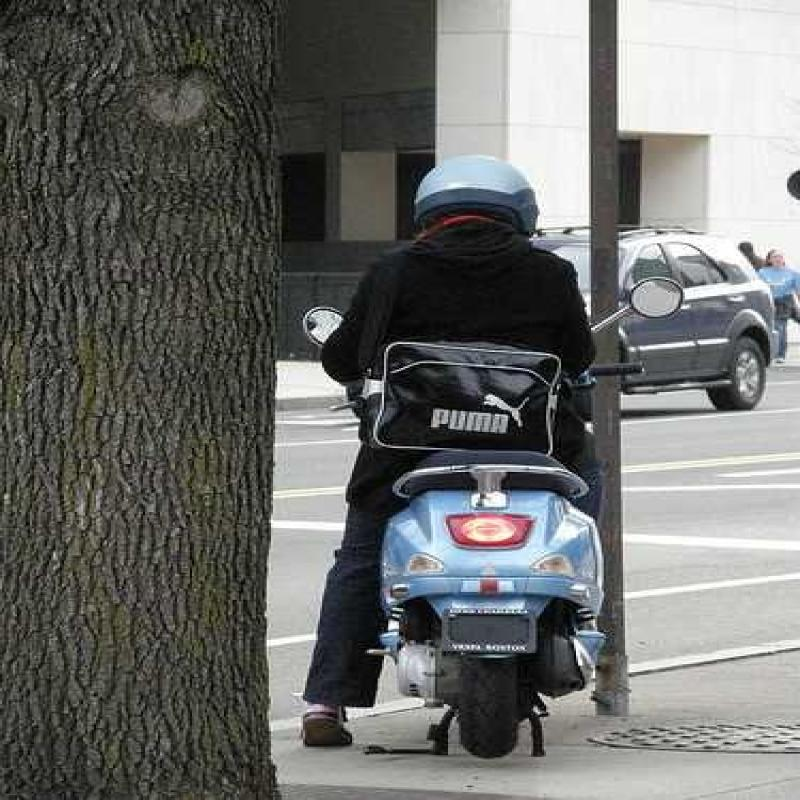bike: (380, 422, 622, 753)
